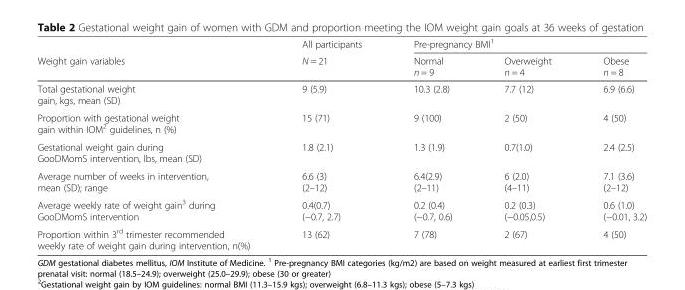table: (36, 36, 646, 250)
table column: (36, 36, 275, 250), (275, 36, 387, 250), (477, 36, 576, 250), (387, 36, 477, 250), (576, 36, 646, 250)
table column header: (36, 36, 646, 80)
table row: (36, 108, 646, 137), (36, 137, 646, 166), (36, 166, 646, 195), (36, 195, 646, 224), (36, 52, 646, 80), (36, 80, 646, 108), (36, 224, 646, 250), (36, 36, 646, 52)
table spanning cell: (36, 36, 275, 80), (275, 36, 387, 80), (387, 36, 646, 52)
